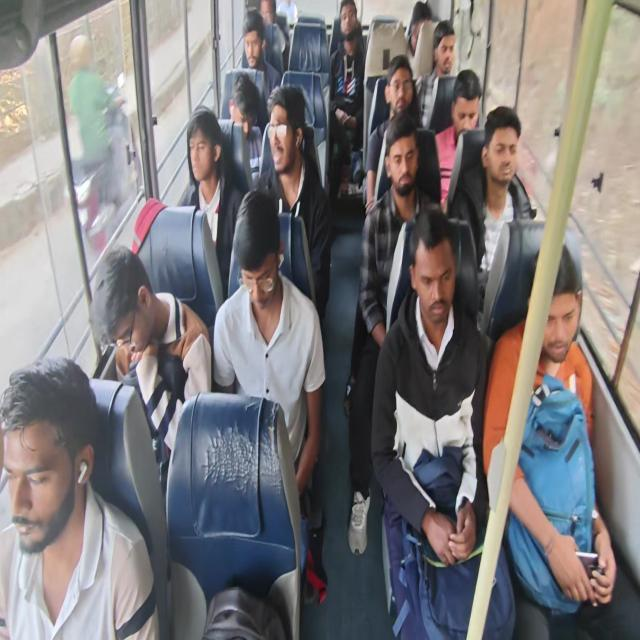person: (2, 1, 634, 638), (370, 206, 516, 638), (482, 240, 638, 638), (212, 188, 327, 598), (0, 355, 160, 639), (344, 111, 442, 554), (91, 245, 211, 491), (255, 84, 332, 322), (449, 104, 534, 310), (66, 34, 127, 250), (180, 106, 244, 299), (365, 53, 421, 213), (328, 0, 366, 196), (434, 68, 482, 211), (240, 9, 282, 130), (414, 20, 456, 130), (228, 72, 263, 184), (259, 0, 289, 72), (406, 1, 432, 77)
